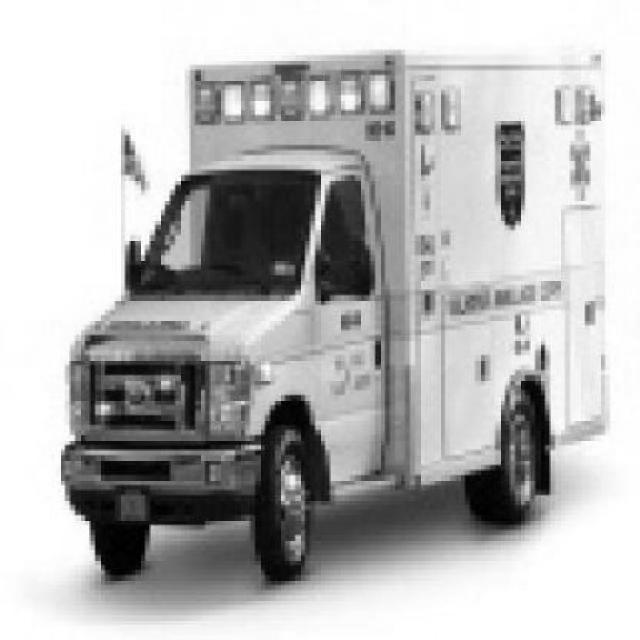Ambulance: (59, 45, 612, 587)
